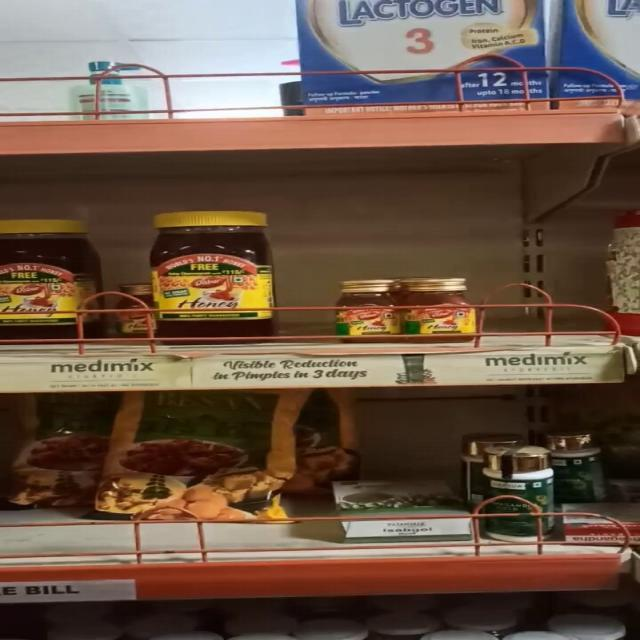Dabur Honey: (144, 212, 280, 332), (0, 220, 92, 338), (408, 276, 493, 338), (336, 278, 408, 339)
